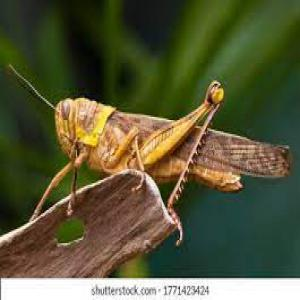locust: (34, 82, 300, 205)
